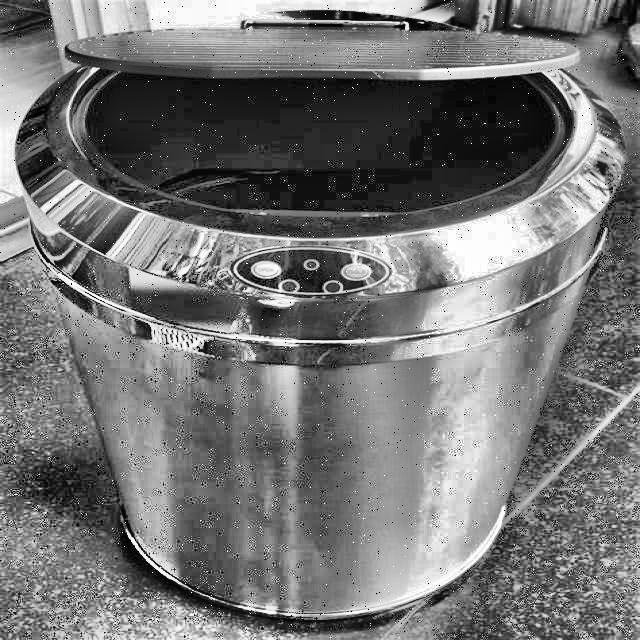Dustbin: (14, 3, 636, 622)
